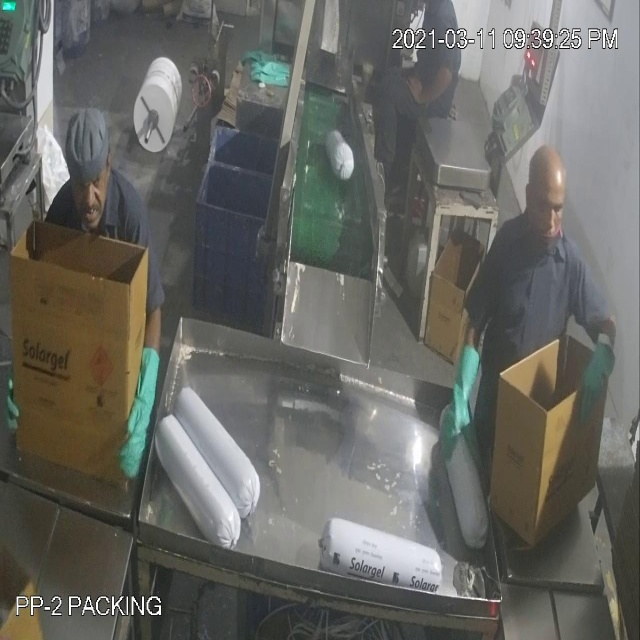Guantes: (109, 369, 171, 485), (433, 354, 486, 462), (568, 332, 625, 414)
Sin_guantes: (403, 54, 455, 116)
